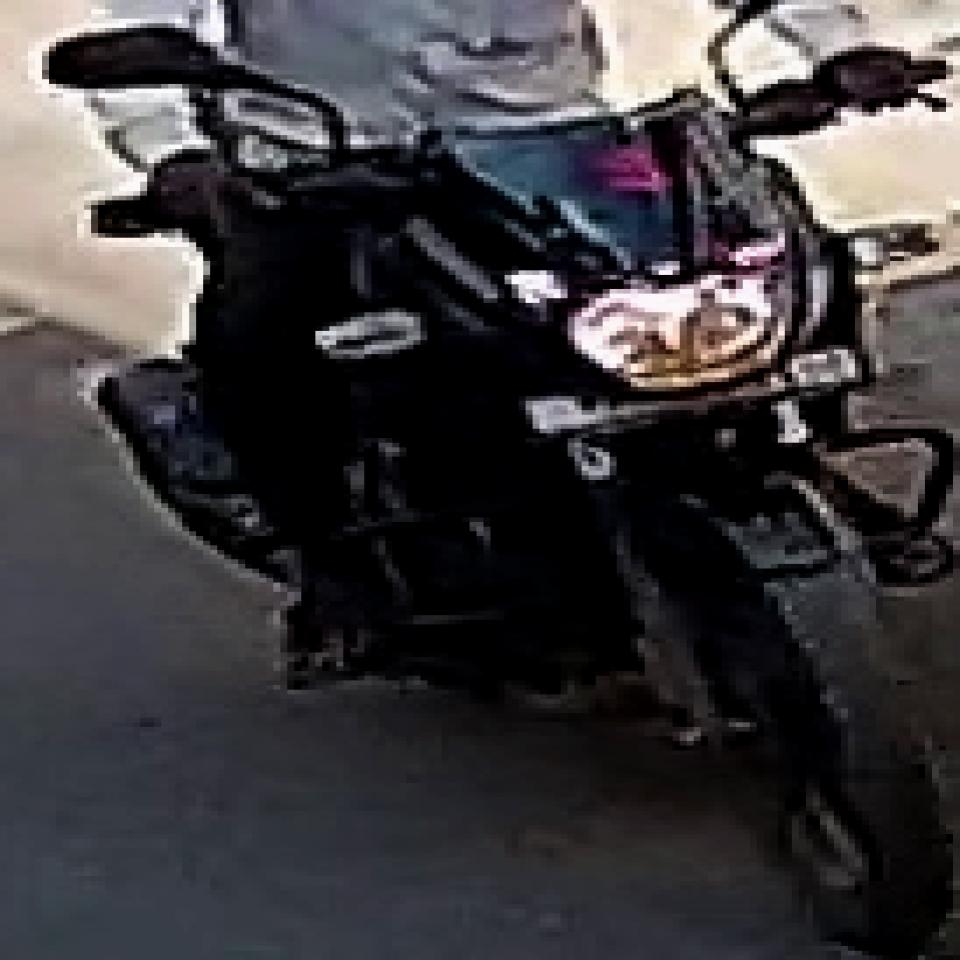head_light: (562, 268, 805, 393)
